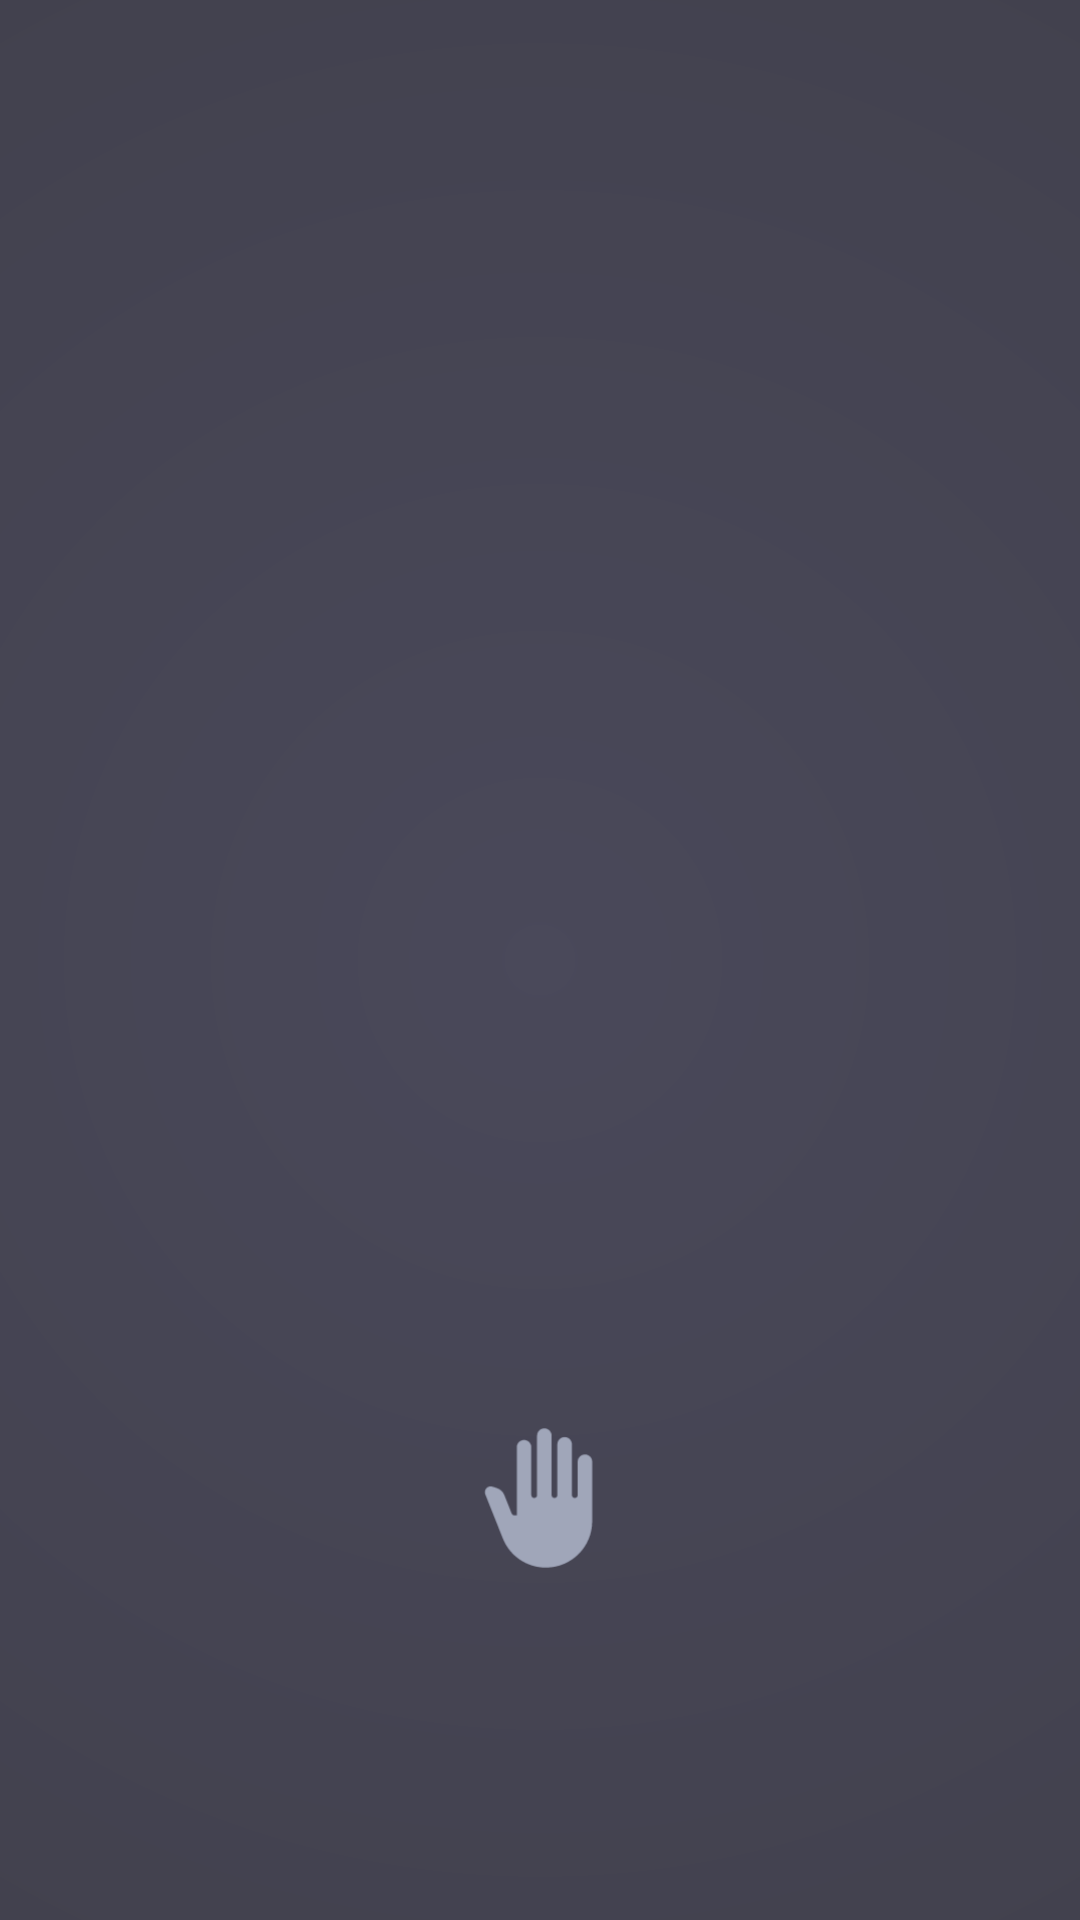

Icon click points for this 1080 × 1920 phone screenshot, format [x,y]:
hand gesture: [539,1498]
